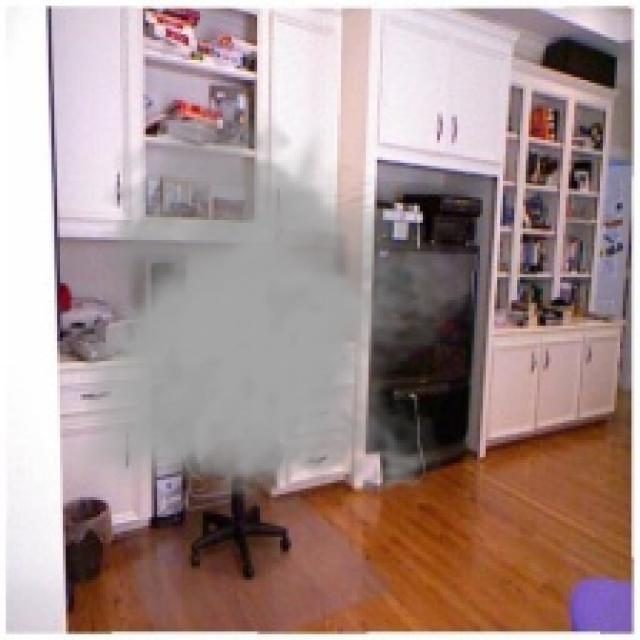Smoke: (62, 108, 472, 506)
